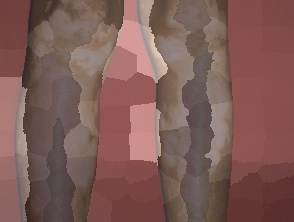vitiligo: (1, 0, 131, 222), (136, 0, 252, 222)
